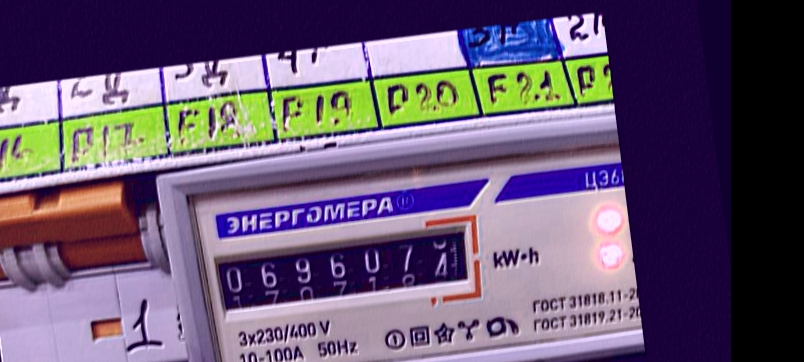0: (360, 244, 383, 276), (223, 264, 244, 294)
4: (431, 251, 450, 280)
6: (257, 259, 280, 289), (326, 250, 348, 281)
7: (396, 242, 417, 274)
9: (292, 256, 312, 286)
screen: (197, 207, 491, 331)
